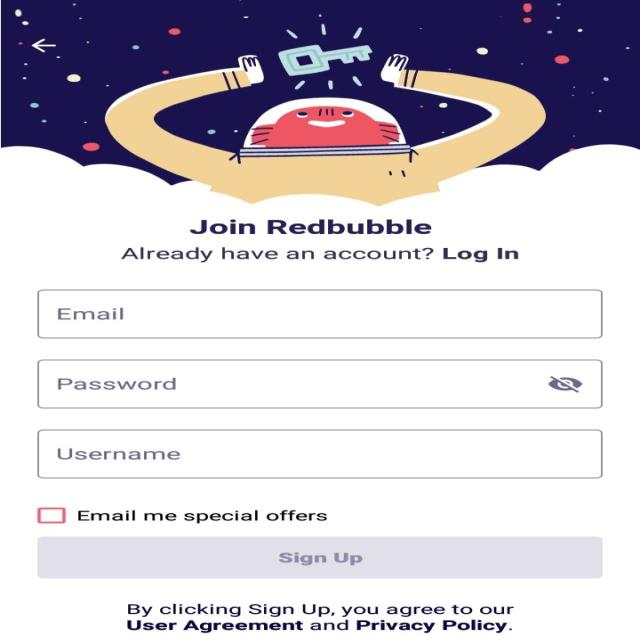EditText: (37, 429, 603, 478), (37, 359, 603, 408), (37, 290, 603, 338)
Icon: (546, 376, 582, 392), (31, 38, 56, 52)
Image: (0, 0, 639, 206)
Text: (126, 603, 514, 633), (120, 247, 518, 262), (188, 219, 432, 234), (78, 510, 327, 523), (58, 377, 176, 390), (58, 448, 180, 459), (58, 308, 124, 320)
TextButton: (37, 536, 602, 578)
